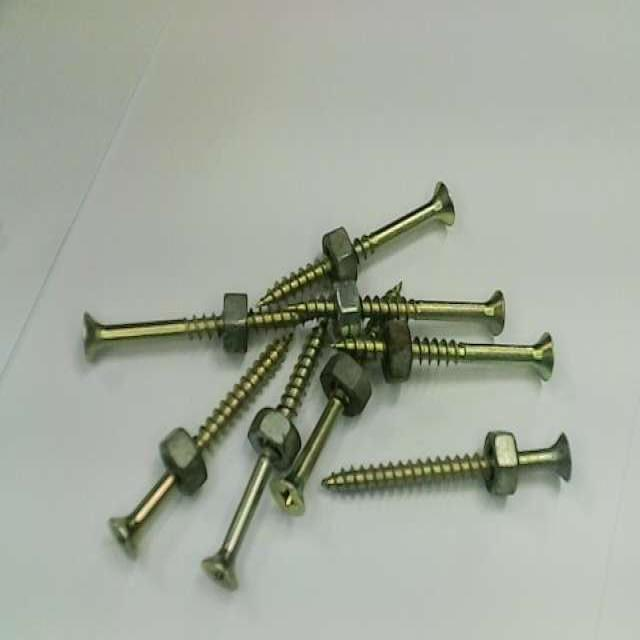Parafuso: (195, 333, 292, 449), (202, 454, 274, 590), (270, 392, 344, 515), (407, 332, 553, 381), (84, 312, 230, 359), (356, 291, 505, 335), (356, 182, 454, 246), (322, 454, 488, 490), (109, 473, 175, 553), (242, 311, 303, 328), (287, 299, 337, 317)
Porca: (160, 428, 206, 493), (320, 361, 371, 415), (248, 408, 292, 461), (483, 431, 519, 495), (322, 227, 357, 281), (382, 320, 412, 381), (222, 294, 247, 353), (334, 280, 361, 333)
